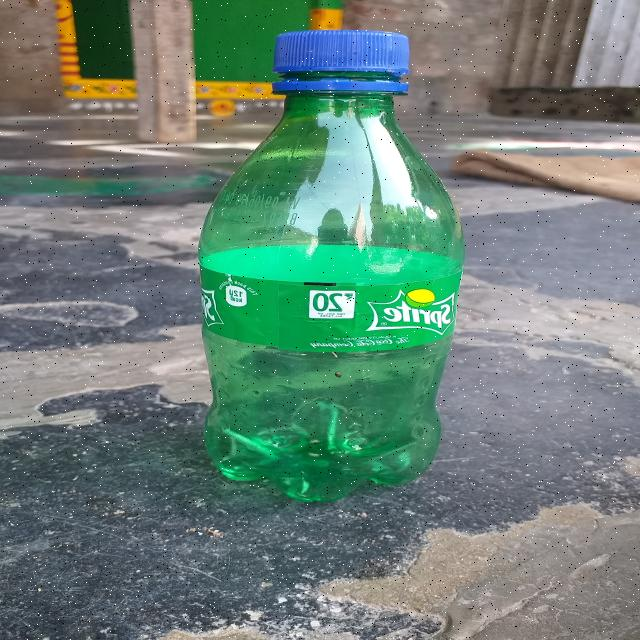plastic: (198, 24, 468, 512)
